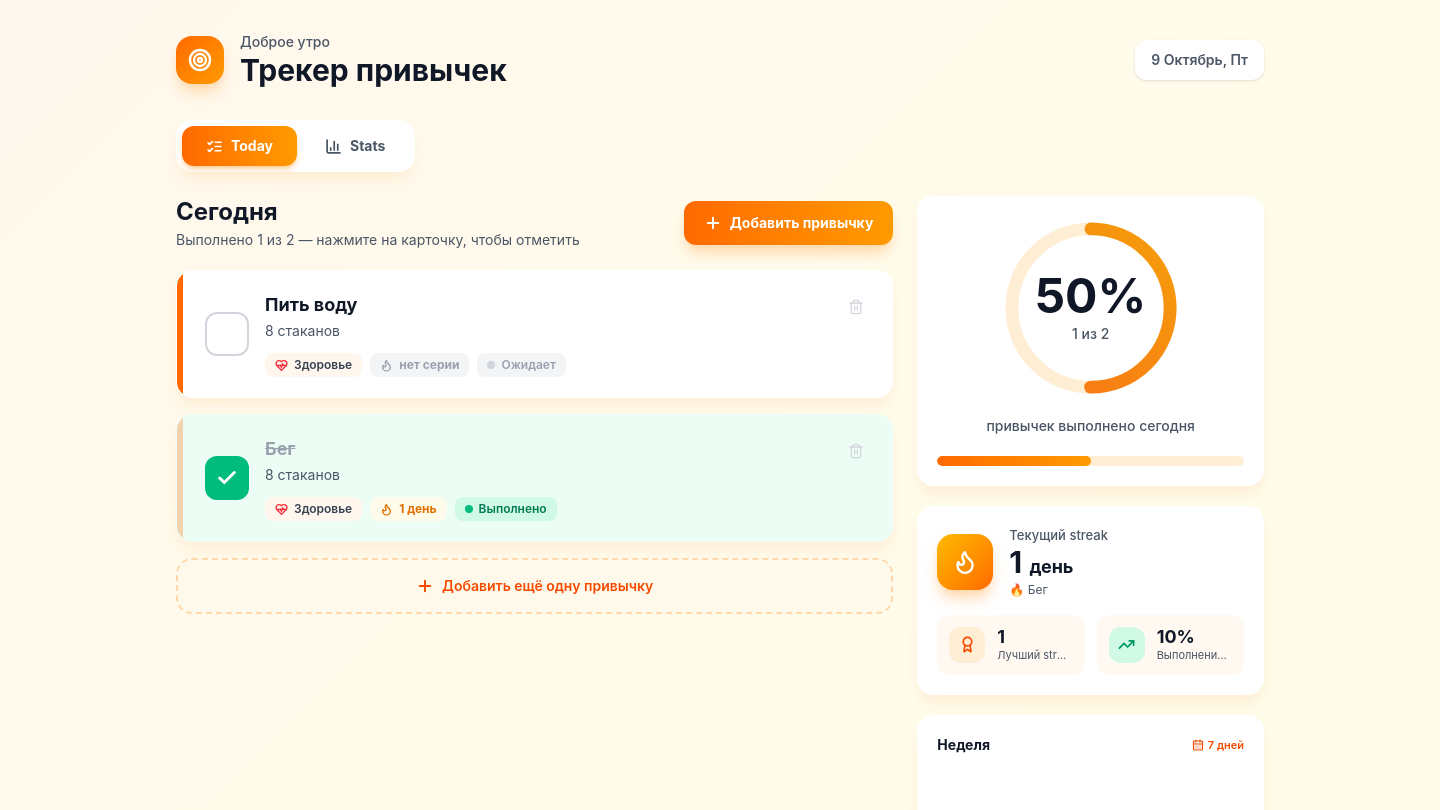
Today — отметка выполнения › обновляет прогресс при клике по карточке
The image size is (1440, 810).
What coordinates should you click on to do the following:
click the button "Пить воду"
I would click on:
 (227, 334)
Its box is top-left (176, 270), bottom-right (893, 398).
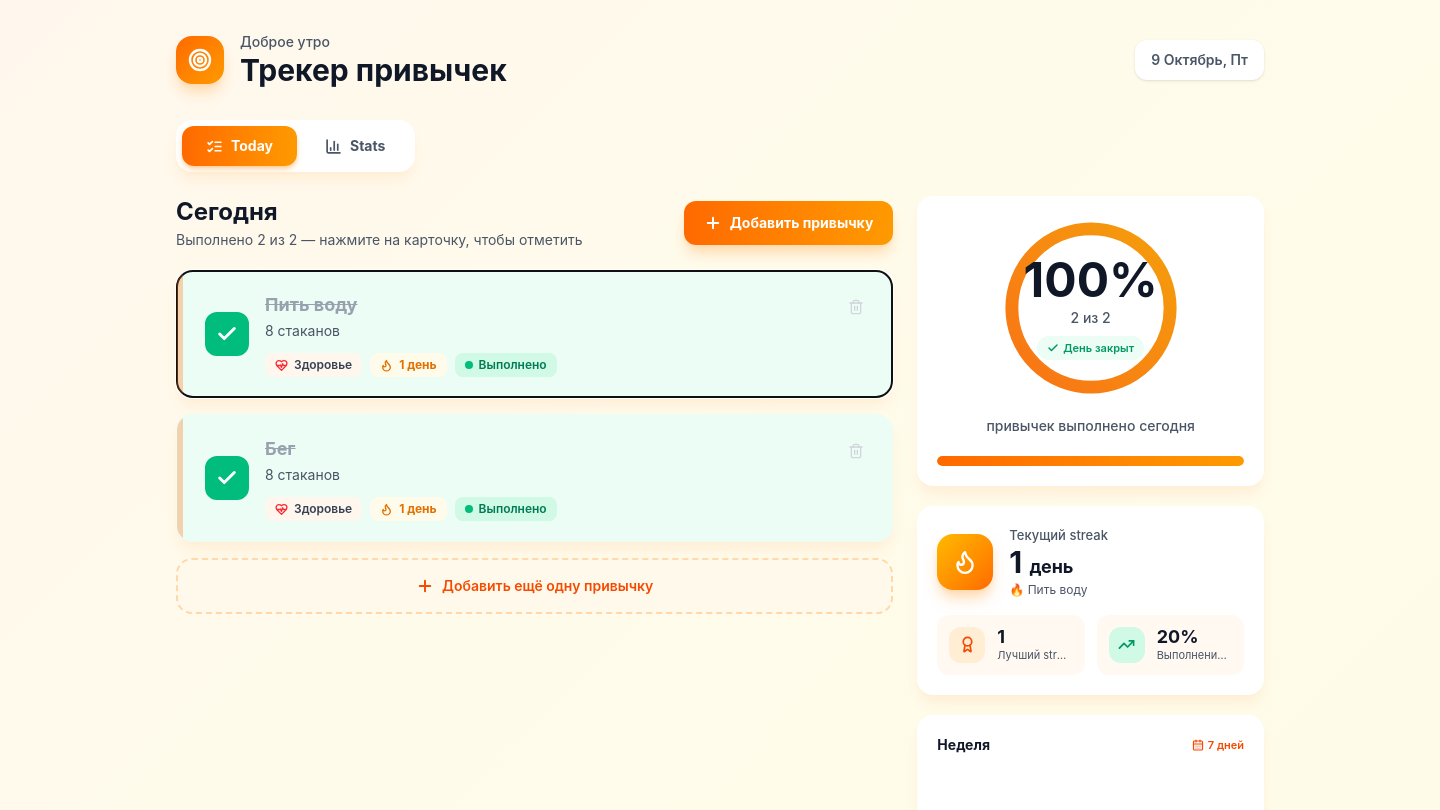
Now the text "Выполнено" is shown, box top-left (455, 353), bottom-right (557, 377)
